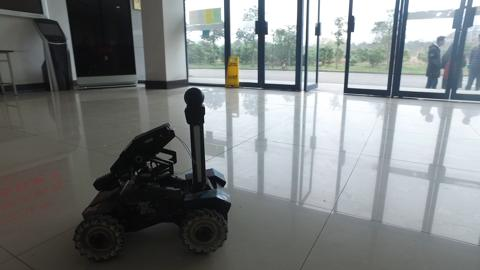chariot: (71, 80, 235, 267)
